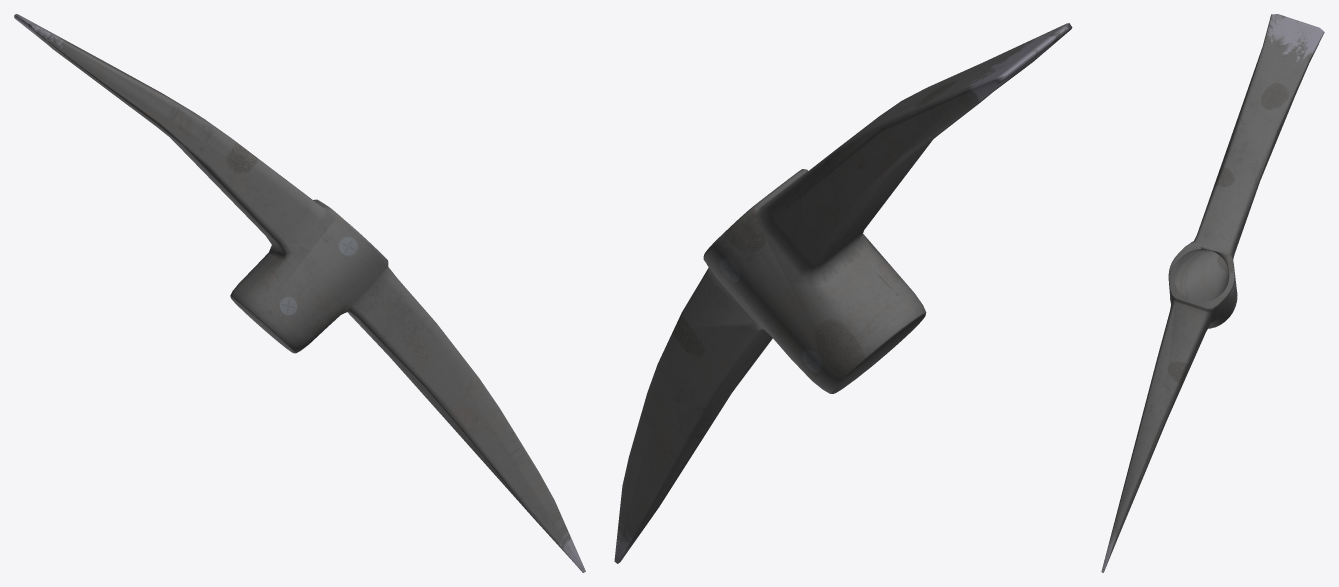
File: iron_pickaxe_head_model.fbx
3 views of the same model, side by side, from view 1: azimuth 30°, elevation 25°; view 2: azimuth 150°, elevation 25°; view 3: azimuth 270°, elevation 25° (orthographic). The views are drawn at different scales.
Parts seen in each view (by area): view 1: pickaxe_head; view 2: pickaxe_head; view 3: pickaxe_head.
Boxes of the visible parts, left/top/right/bottom form: pickaxe_head: left=14, top=14, right=585, bottom=572; pickaxe_head: left=614, top=23, right=1072, bottom=563; pickaxe_head: left=1101, top=14, right=1324, bottom=572.
Size of the model in its own units: 1.07 by 0.6625 by 1.33.
